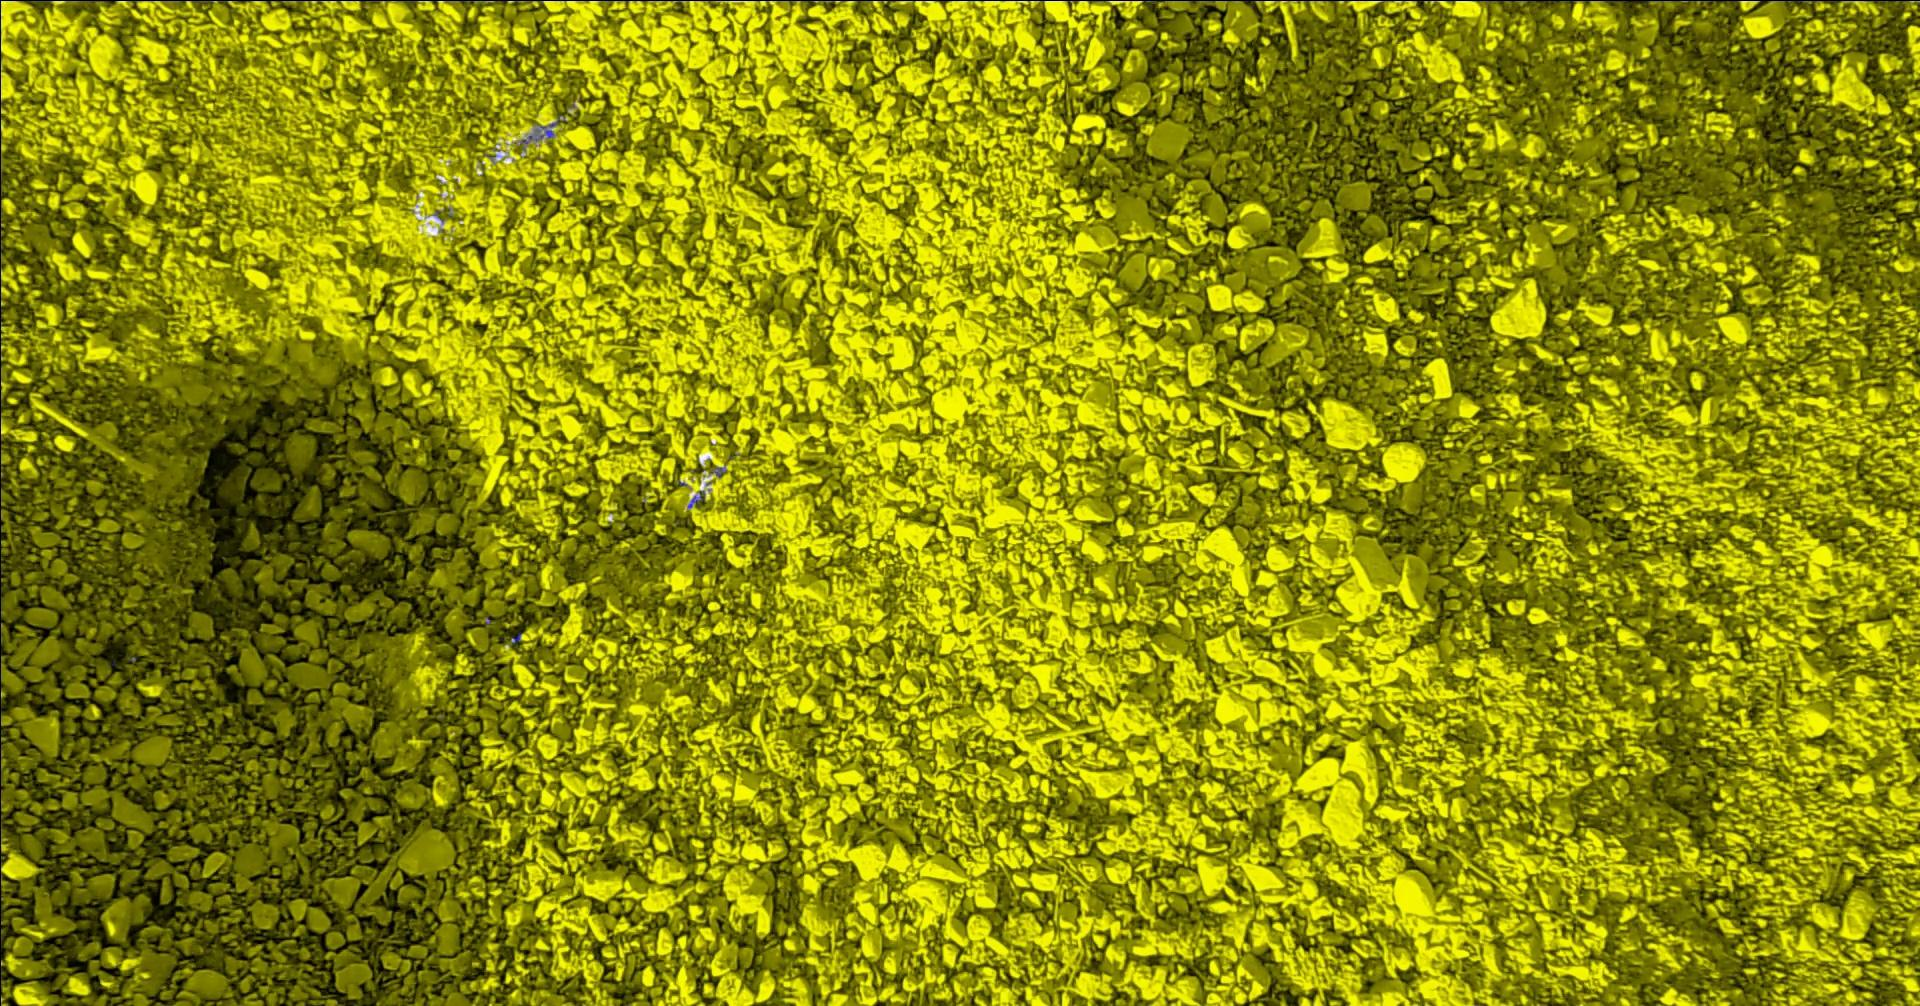ant: (528, 116, 566, 140), (687, 490, 703, 507)
